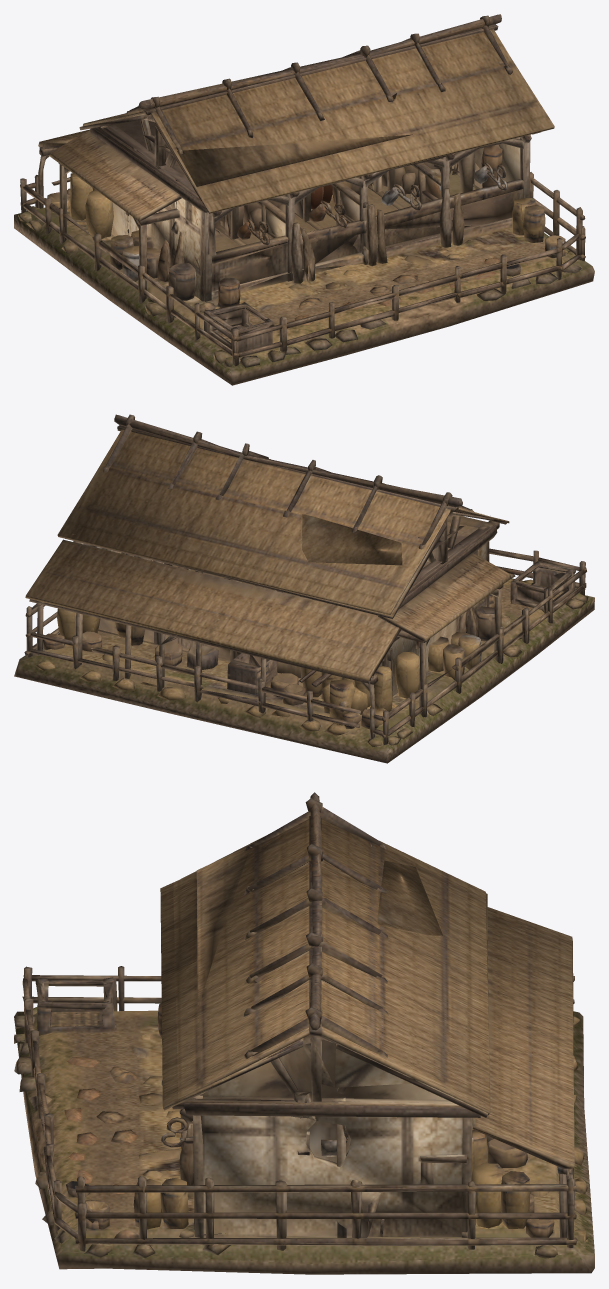
Rendered from Meshy_AI_model.glb.
3 renders of one model, top to bottom at view 1: azimuth 30°, elevation 25°; view 2: azimuth 150°, elevation 25°; view 3: azimuth 270°, elevation 25°, orthographic. The views are drawn at different scales.
Bounding box in the file's own units: 1 × 0.4896 × 1.
1 material, 1 textured.
